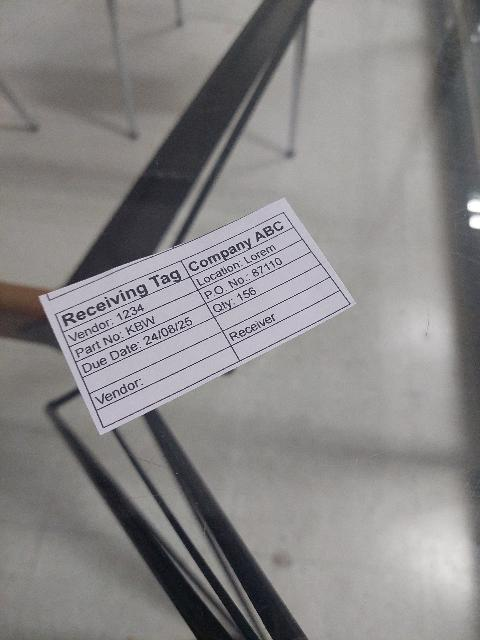PO no: (198, 239, 312, 305)
part no: (68, 290, 205, 363)
qty: (205, 251, 321, 319)
tags: (39, 199, 355, 438)
